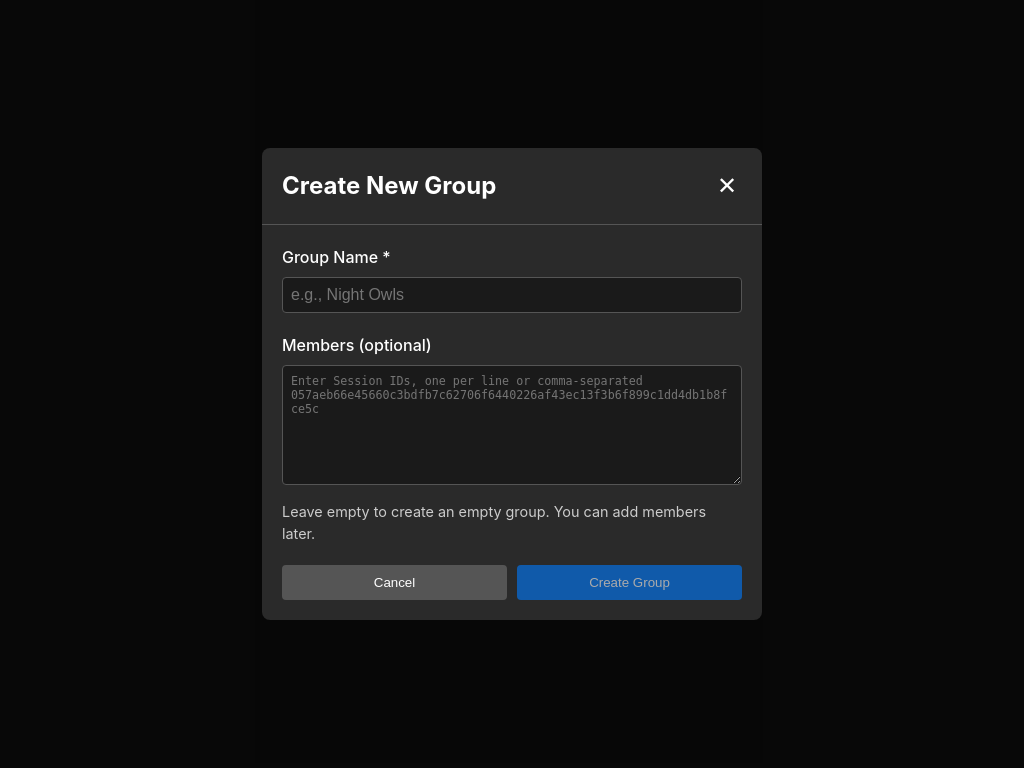
GroupCreate › requires group name
Expected: the button "Create Group" is disabled, [517,565,742,600]
Step 1. Type "Test Group" into the field labelled "Group Name *" → (512, 295), box [282,277,742,313]
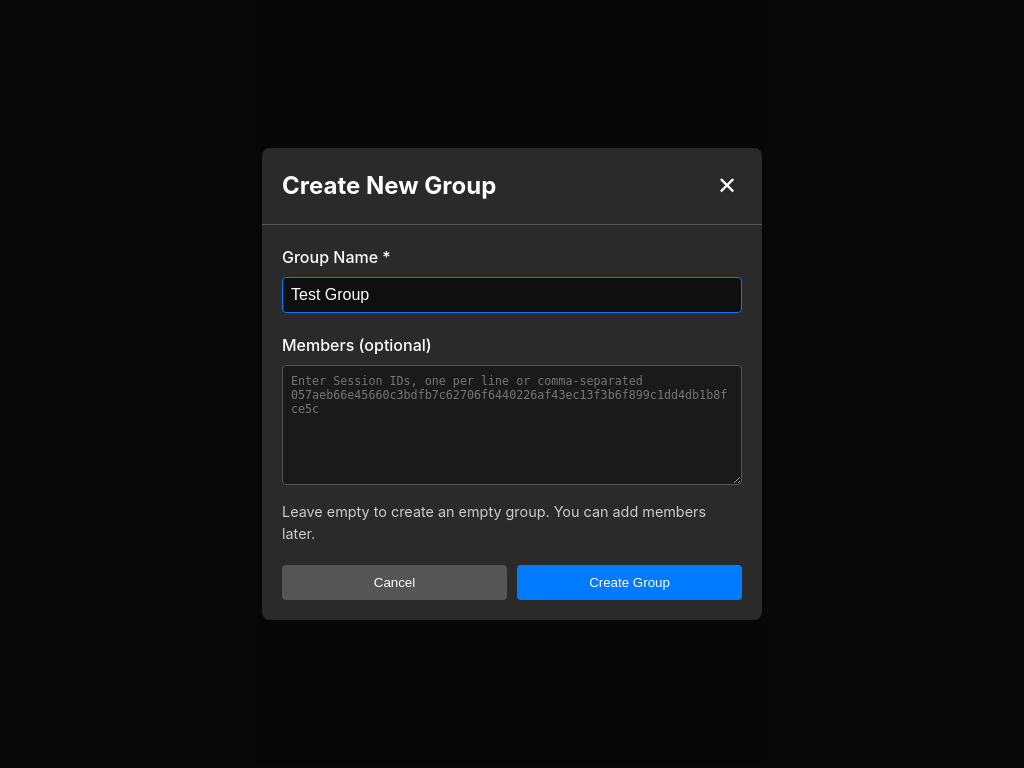
Result: the button "Create Group" is enabled at [517,565,742,600]
